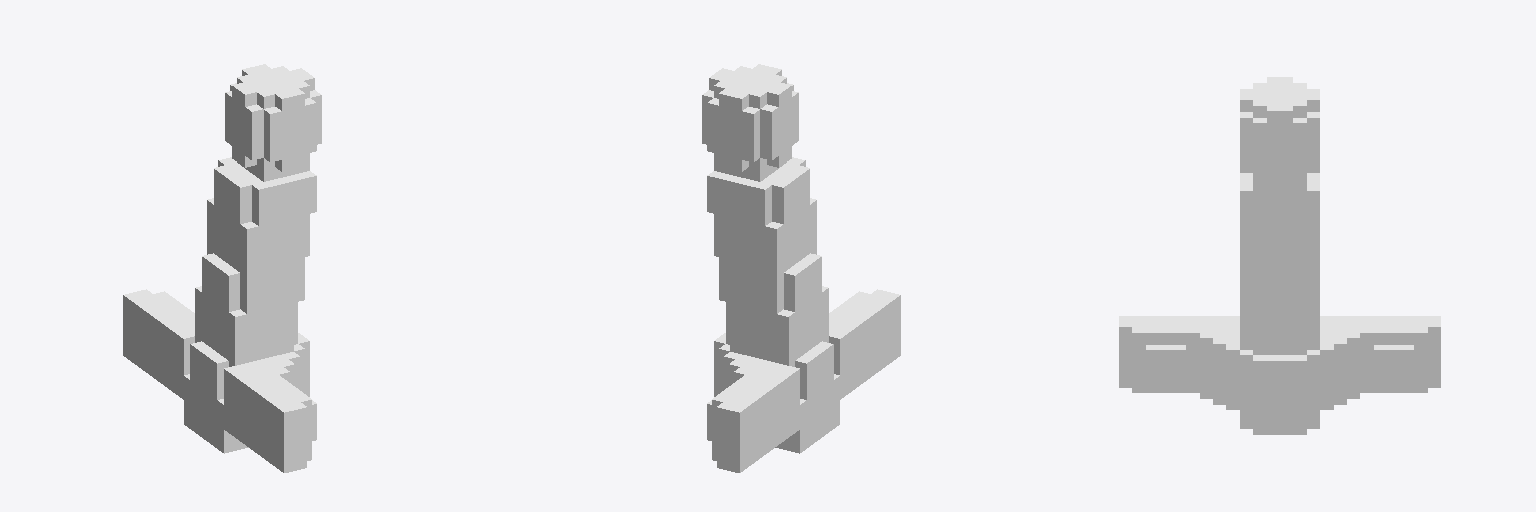
File: torche.obj
3 renders of one model, left to right at view 1: azimuth 30°, elevation 25°; view 2: azimuth 150°, elevation 25°; view 3: azimuth 270°, elevation 25°, orthographic.
Visible parts, largest first — view 1: torche; view 2: torche; view 3: torche.
Part boxes in pixels (x1,y1,x2,y2): torche: (123,64,321,472); torche: (702,64,900,472); torche: (1119,77,1440,434).
Bounding box in the file's own units: 9 × 28 × 24.